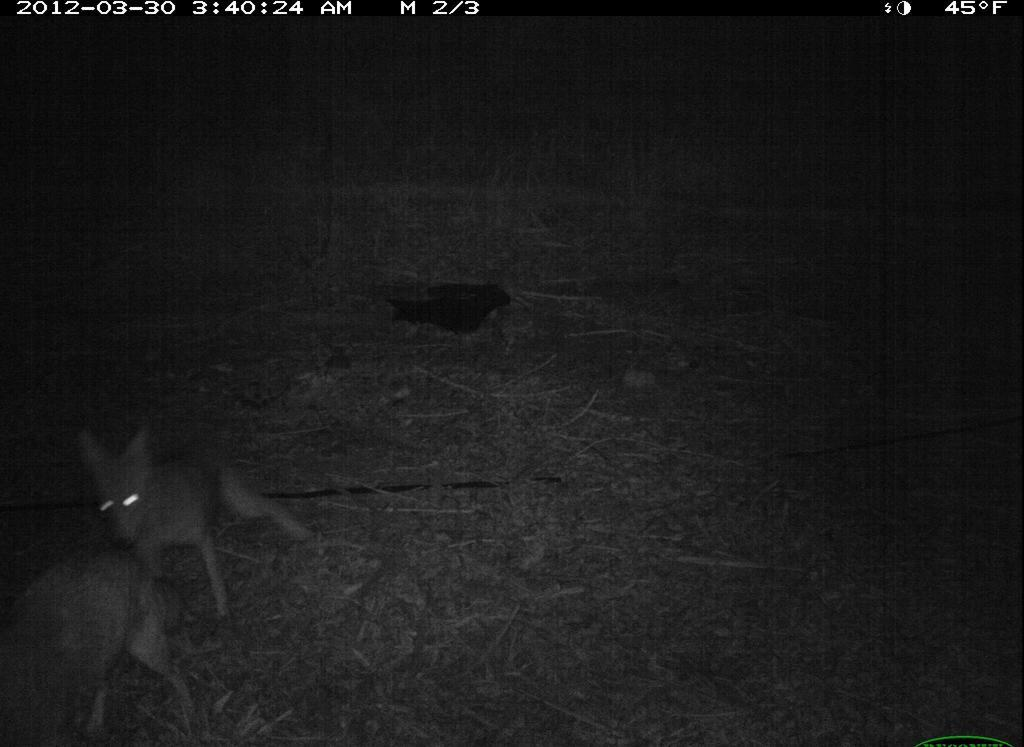coyote: (65, 417, 321, 623), (4, 534, 226, 740)
